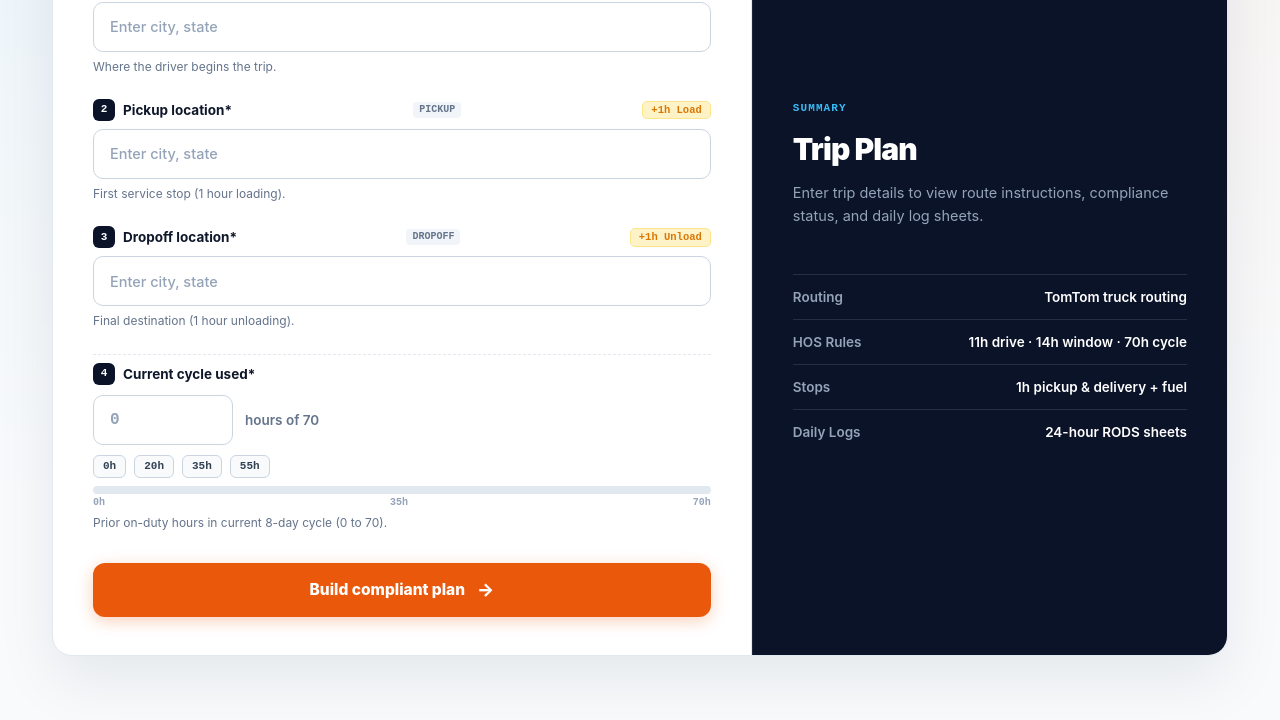
it: trip planner form › shows validation messages for an empty submission
(page scrolled)
Click the button "Build compliant plan →": click(402, 590) [93,563,711,617]
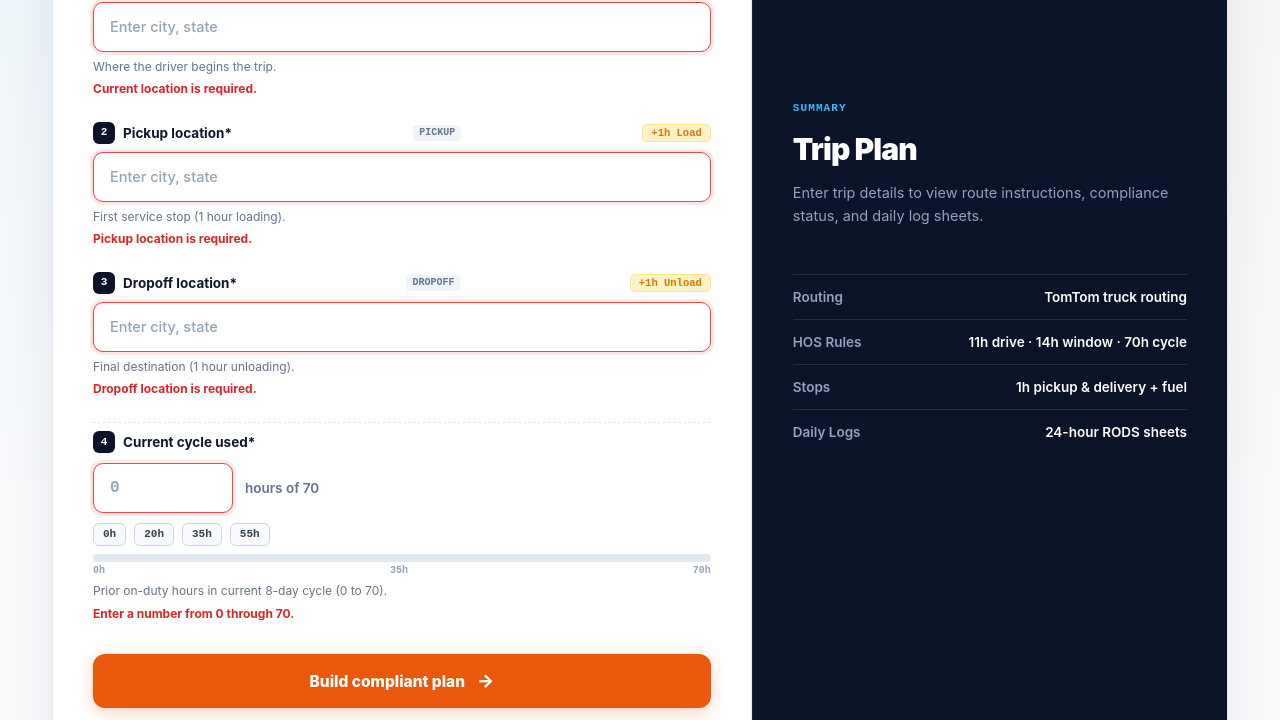
Now the number of messages is 4, box [93,81,257,96]; [93,231,252,246]; [93,381,257,396]; [93,606,294,620]
Now the text "Enter a number from 0 through 70." is shown, box [93,606,294,620]
